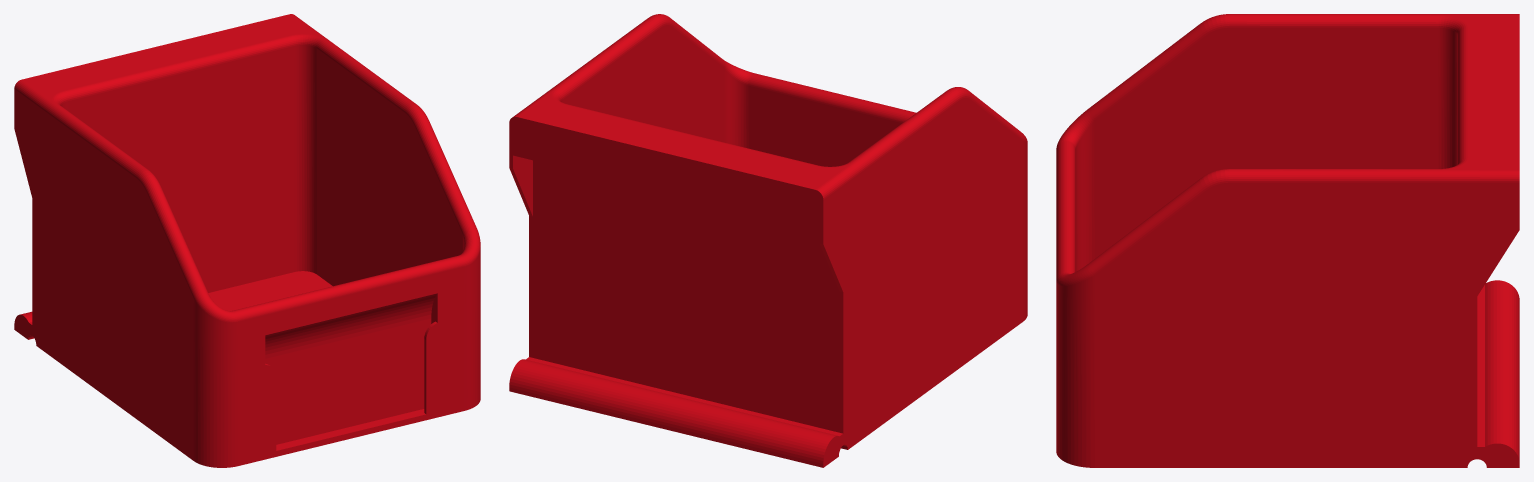
Rendered from 50mm_red.dae.
The picture shows the model from 3 angles, left to right: view 1: azimuth 30°, elevation 25°; view 2: azimuth 150°, elevation 25°; view 3: azimuth 270°, elevation 25°; orthographic projection. The views are drawn at different scales.
Parts seen in each view (by area): view 1: _0Mm_Open_Bin; view 2: _0Mm_Open_Bin; view 3: _0Mm_Open_Bin.
Part boxes in pixels (x1,y1,x2,y2): _0Mm_Open_Bin: (14,14,480,467); _0Mm_Open_Bin: (509,14,1027,467); _0Mm_Open_Bin: (1056,14,1519,467).
Size of the model in its own units: 0.2 by 0.24 by 0.168.
